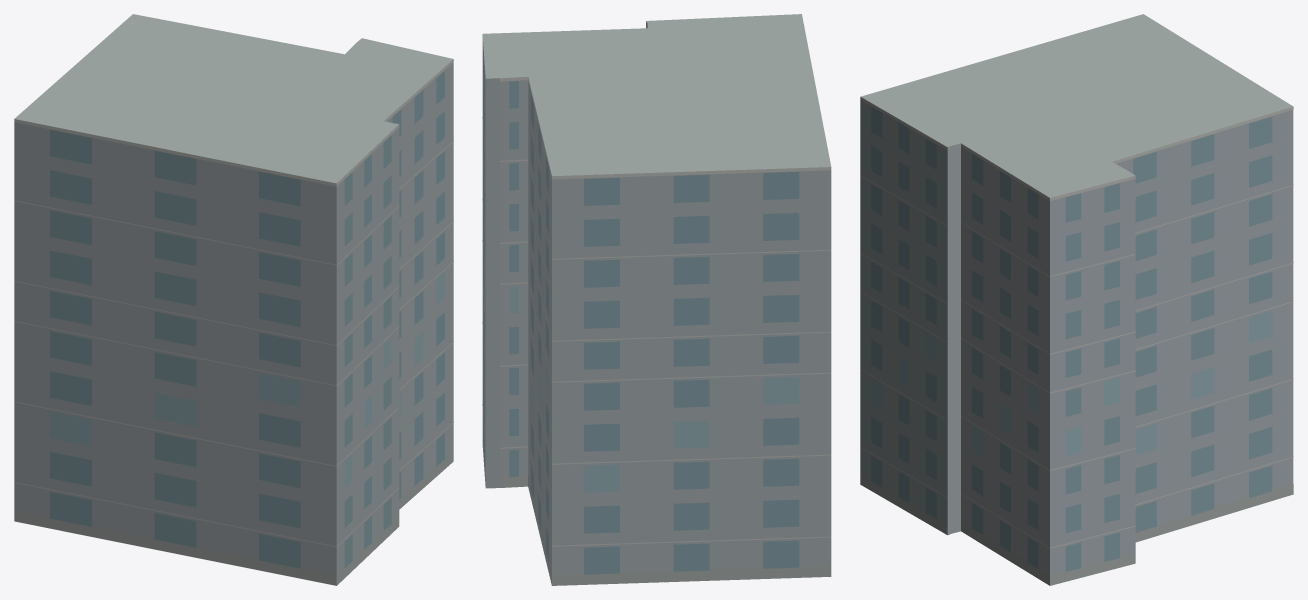
The model's file is survey-upis-32852721.glb.
3 renders of one model, left to right at view 1: azimuth 30°, elevation 25°; view 2: azimuth 150°, elevation 25°; view 3: azimuth 270°, elevation 25°, orthographic. The views are drawn at different scales.
Visible parts, largest first — view 1: survey-upis-32852721.tmp; view 2: survey-upis-32852721.tmp; view 3: survey-upis-32852721.tmp.
Part boxes in pixels (<box>): survey-upis-32852721.tmp: <box>14,14,453,585</box>; survey-upis-32852721.tmp: <box>482,14,831,585</box>; survey-upis-32852721.tmp: <box>860,14,1293,585</box>.
Bounding box in the file's own units: 31.03 × 30.5 × 30.87.
